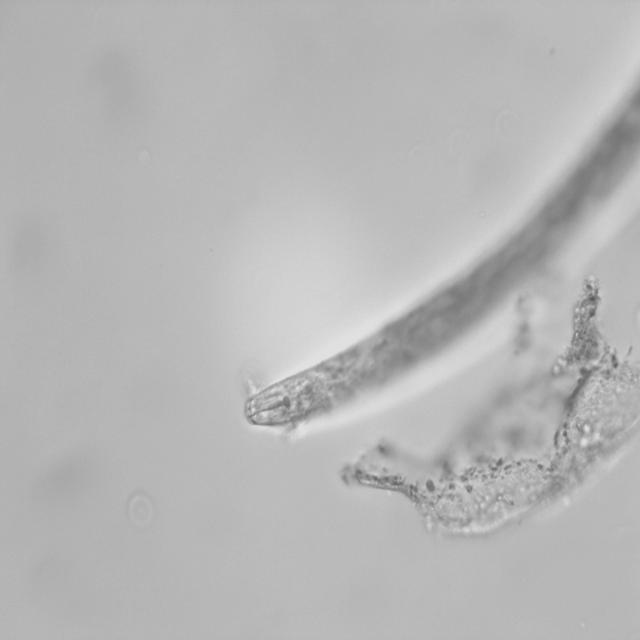Pratylenchus: (232, 360, 313, 444)
